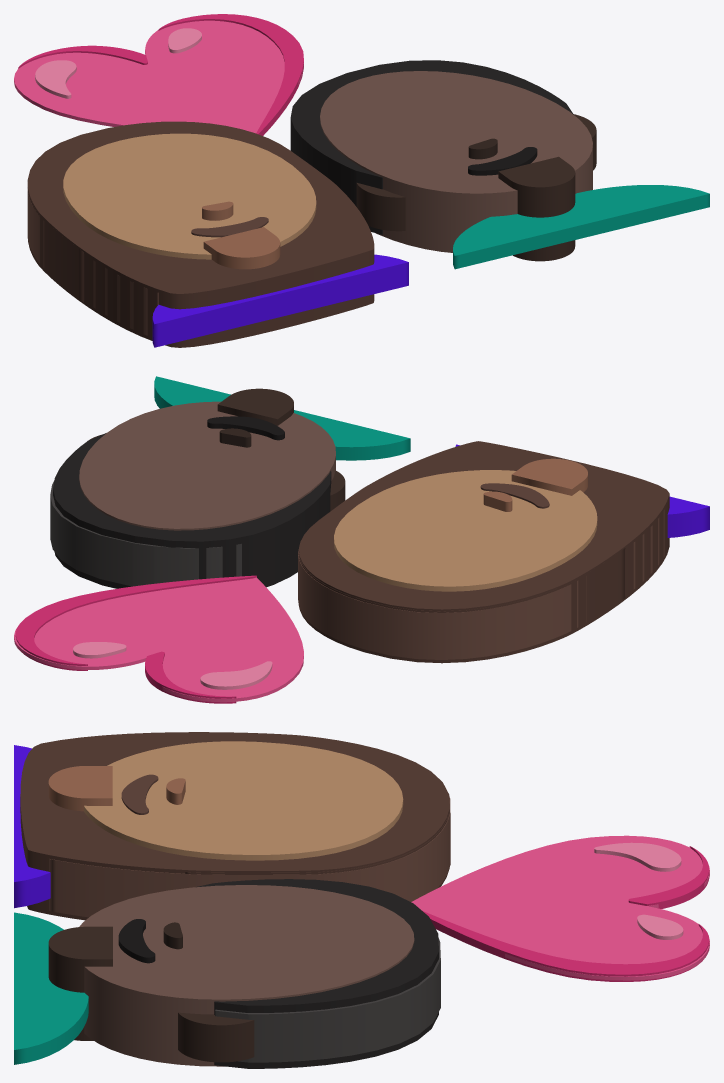
The model's file is emoji_u1f469_1f3fd_200d_2764_200d_1f468_1f3ff.glb.
3 views of the same model, one above another, from view 1: azimuth 30°, elevation 25°; view 2: azimuth 150°, elevation 25°; view 3: azimuth 270°, elevation 25° (orthographic). The views are drawn at different scales.
Parts seen in each view (by area): view 1: emoji_u1f469_1f3fd_200d_2764_200d_1f468_1f3ff; view 2: emoji_u1f469_1f3fd_200d_2764_200d_1f468_1f3ff; view 3: emoji_u1f469_1f3fd_200d_2764_200d_1f468_1f3ff.
Boxes of the visible parts, x1=… form: emoji_u1f469_1f3fd_200d_2764_200d_1f468_1f3ff: x1=14, y1=14, x2=709, y2=347; emoji_u1f469_1f3fd_200d_2764_200d_1f468_1f3ff: x1=14, y1=376, x2=709, y2=703; emoji_u1f469_1f3fd_200d_2764_200d_1f468_1f3ff: x1=14, y1=732, x2=709, y2=1068.
Size of the model in its own units: 0.0346 by 0.005 by 0.0339.
